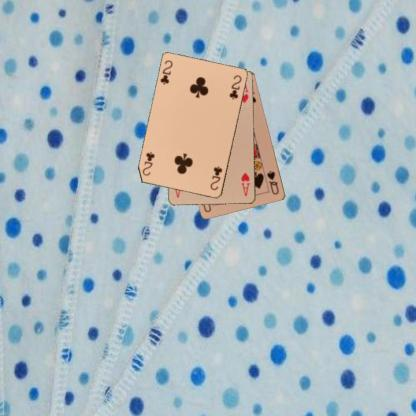2c: (208, 163, 224, 192), (158, 58, 174, 86)
Ah: (239, 170, 251, 197)
Qs: (265, 168, 280, 196)
